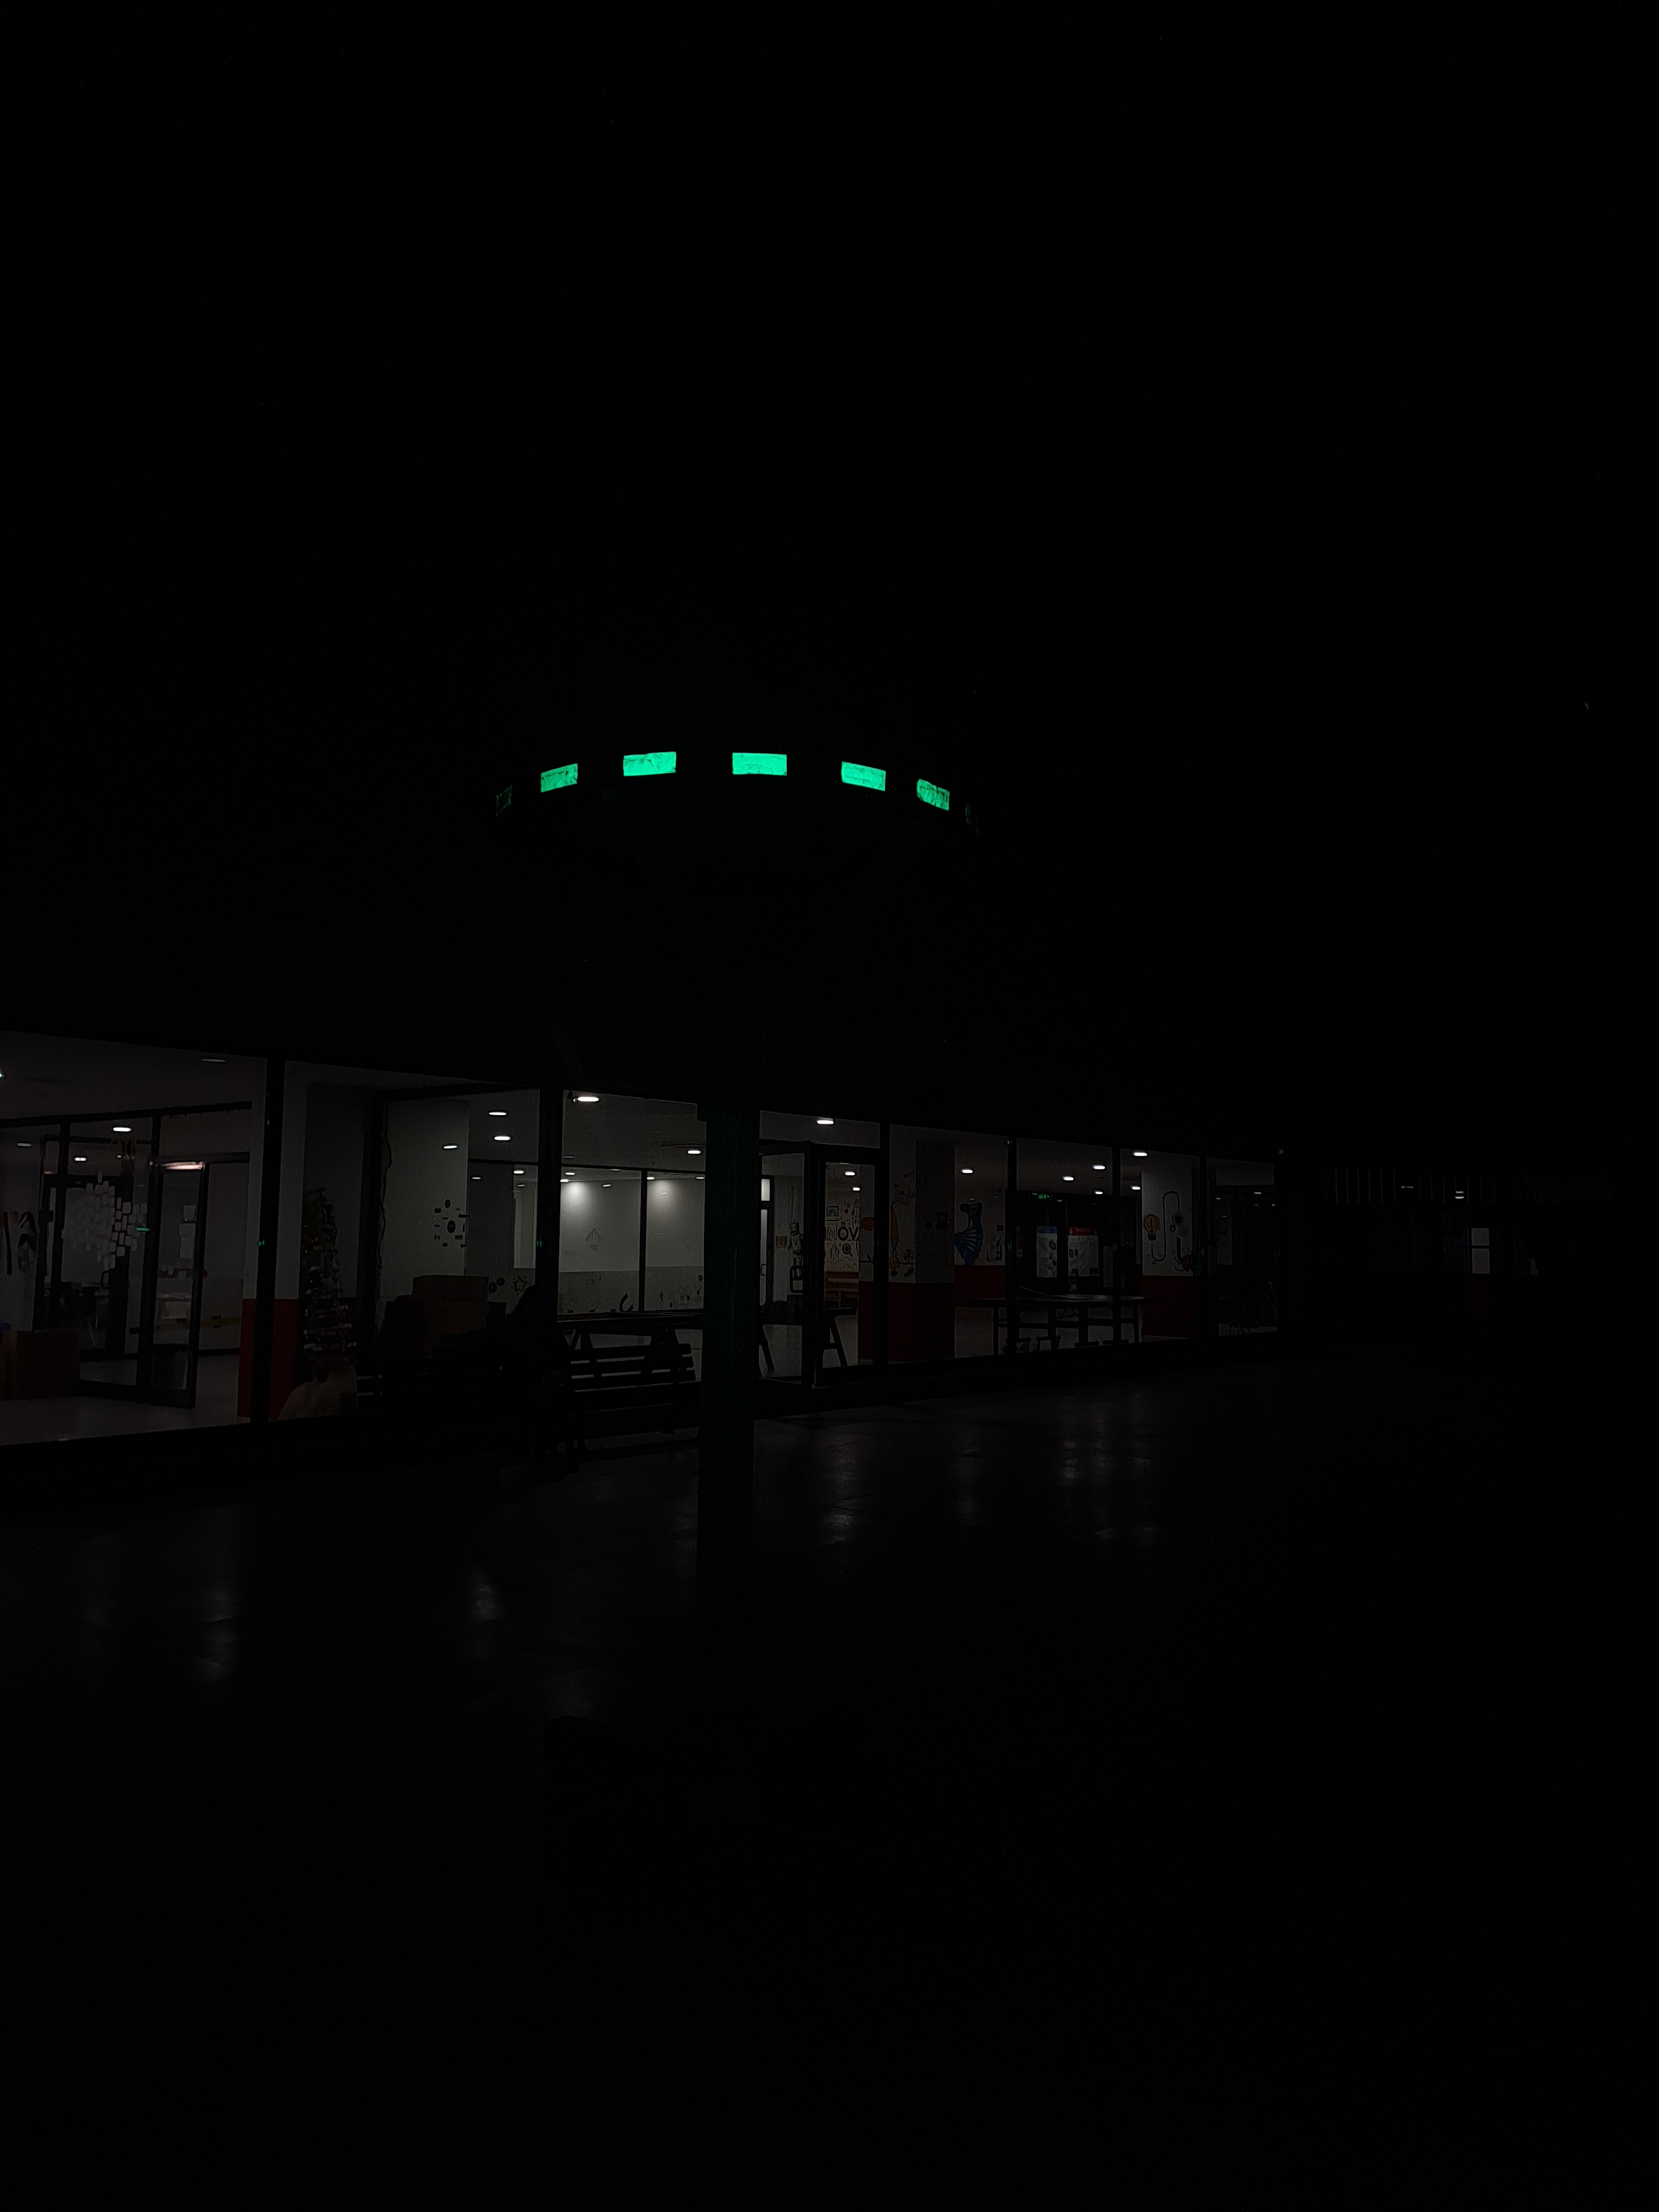hoop: (535, 747, 955, 817)
